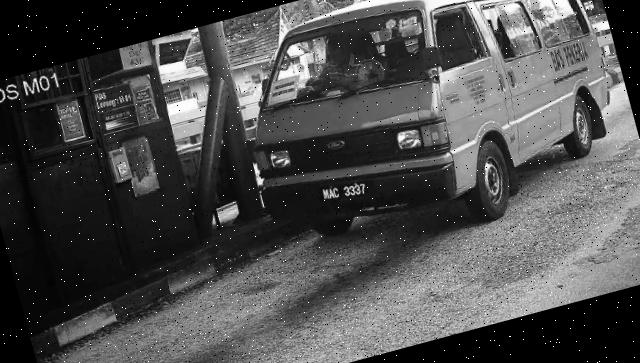License_Plate: (318, 174, 373, 212)
van: (221, 1, 637, 276)
